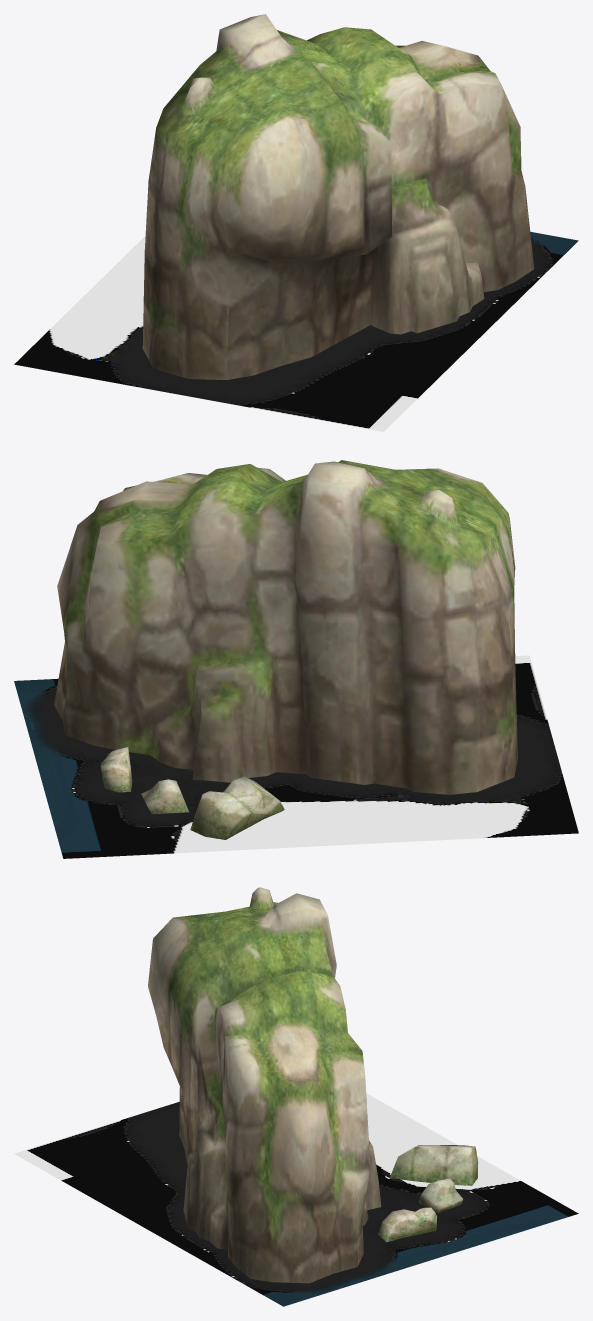
The model's file is block stone.fbx.
The picture shows the model from 3 angles, top to bottom: view 1: azimuth 30°, elevation 25°; view 2: azimuth 150°, elevation 25°; view 3: azimuth 270°, elevation 25°; orthographic projection. The views are drawn at different scales.
Visible parts, largest first — view 1: block_stone, Jungle_Block_Stop_2L_01_S; view 2: block_stone, Jungle_Block_Stop_2L_01_S; view 3: block_stone, Jungle_Block_Stop_2L_01_S.
Boxes of the visible parts, x1=… form: block_stone: x1=142, y1=14, x2=534, y2=379; Jungle_Block_Stop_2L_01_S: x1=14, y1=232, x2=578, y2=431; block_stone: x1=54, y1=460, x2=517, y2=839; Jungle_Block_Stop_2L_01_S: x1=14, y1=655, x2=578, y2=858; block_stone: x1=148, y1=887, x2=478, y2=1283; Jungle_Block_Stop_2L_01_S: x1=14, y1=1093, x2=578, y2=1306.
Bounding box in the file's own units: 5648 × 2852 × 5484.
